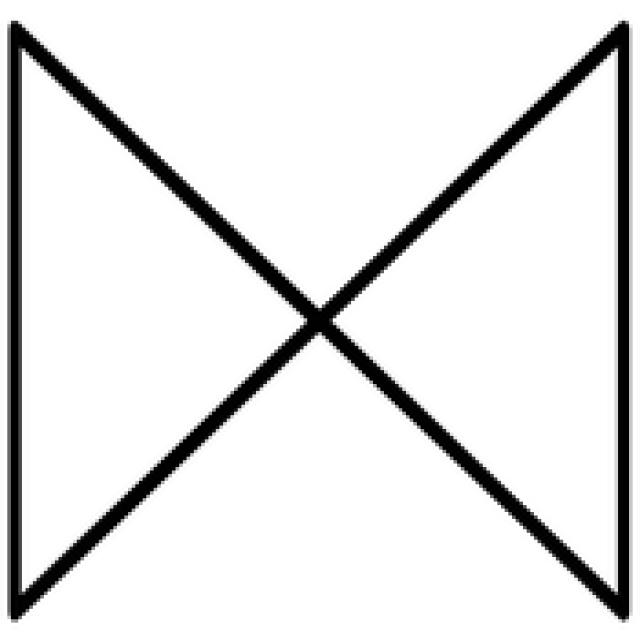Gate valve: (12, 29, 630, 614)
